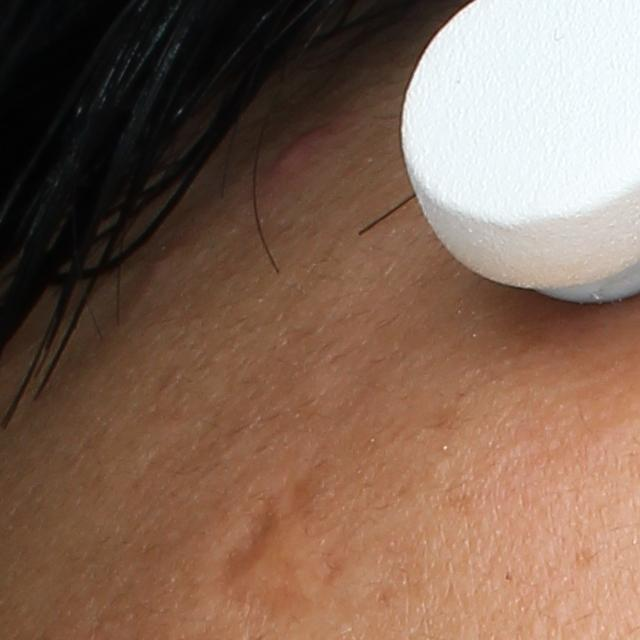atrophic_scar: (215, 497, 287, 599), (242, 562, 311, 631)
papule: (263, 121, 318, 188)
